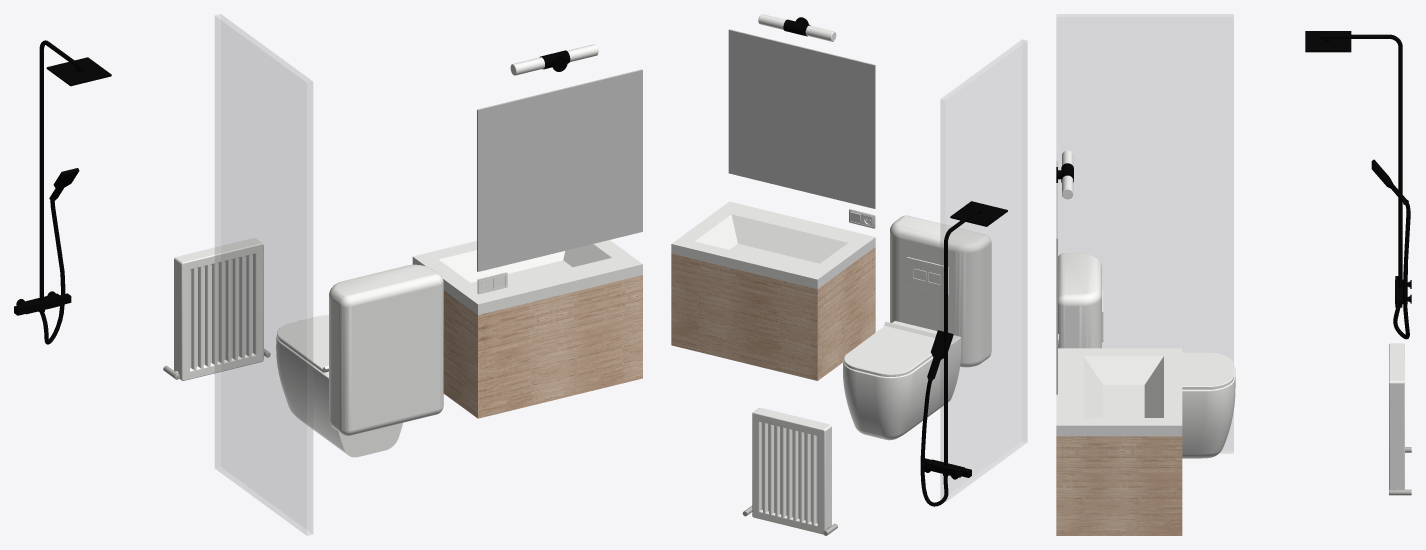
Rendered from bathroom-f2.glb.
3 renders of one model, left to right at view 1: azimuth 30°, elevation 25°; view 2: azimuth 150°, elevation 25°; view 3: azimuth 270°, elevation 25°, orthographic. The views are drawn at different scales.
Visible parts, largest first — view 1: douche glass, mirror, sink cabinet, toilette siphon, Body1.003, sink, Body1, Body1.001, Body2, Body5.001, Body7, Body1.004; view 2: douche glass, mirror, sink cabinet, sink, toilette siphon, Body1.003, Body1, Body2, Body1.001, Body3, Body5.001, Body7 (+2 smaller); view 3: douche glass, sink cabinet, sink, toilette siphon, Body1, Body1.003, Body2, Body1.001, Body5.001, Body7, mirror.
Boxes of the visible parts, x1,y1,x2,y2 form: douche glass: [215, 14, 312, 535]; mirror: [477, 69, 642, 271]; sink cabinet: [443, 275, 642, 418]; toilette siphon: [329, 264, 443, 435]; Body1.003: [174, 238, 263, 380]; sink: [412, 240, 642, 314]; Body1: [276, 335, 402, 457]; Body1.001: [16, 40, 85, 314]; Body2: [277, 315, 328, 372]; Body5.001: [46, 57, 111, 86]; Body7: [40, 200, 65, 344]; Body1.004: [510, 44, 598, 75]; douche glass: [940, 40, 1027, 501]; mirror: [728, 29, 875, 208]; sink cabinet: [671, 247, 875, 380]; sink: [671, 201, 875, 288]; toilette siphon: [890, 215, 991, 367]; Body1.003: [752, 407, 831, 534]; Body1: [843, 321, 961, 440]; Body2: [844, 321, 936, 376]; Body1.001: [923, 205, 984, 479]; Body3: [906, 257, 948, 295]; Body5.001: [950, 201, 1007, 226]; Body7: [920, 379, 948, 506]; douche glass: [1056, 14, 1233, 453]; sink cabinet: [1056, 436, 1182, 535]; sink: [1056, 348, 1182, 436]; toilette siphon: [1058, 253, 1101, 348]; Body1: [1182, 365, 1235, 458]; Body1.003: [1389, 343, 1404, 489]; Body2: [1182, 352, 1233, 389]; Body1.001: [1320, 34, 1411, 304]; Body5.001: [1305, 31, 1351, 52]; Body7: [1393, 202, 1410, 339]; mirror: [1056, 161, 1057, 394].
Size of the model in its own units: 2.18 by 2.1 by 1.55.
Materials: 7 (1 with a texture image).
